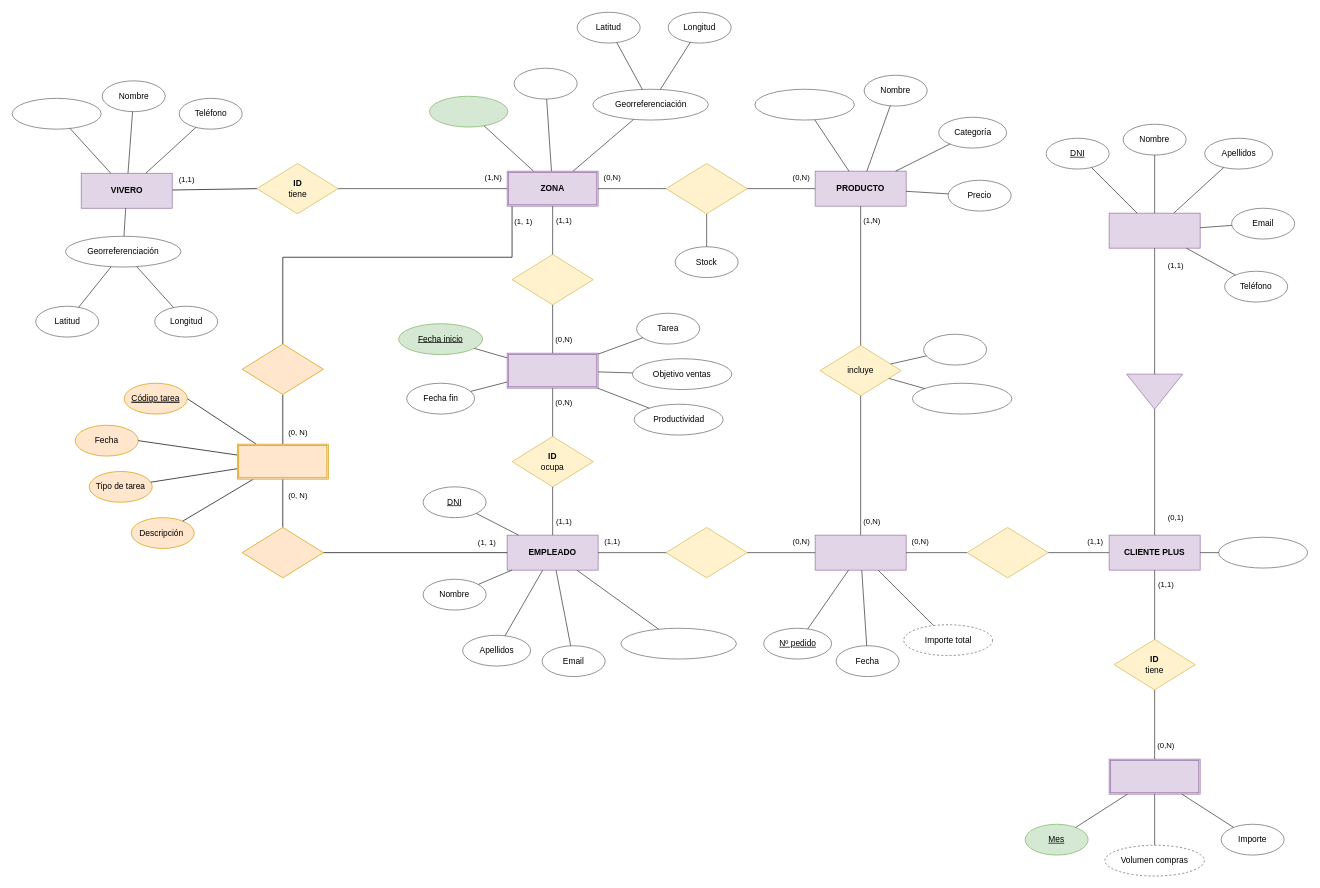
The diagram is 1320 pixels wide and 888 high, and some of its shapes have lost their labels. The centre of each missing label's shape, as x and y in pixels:
"almacena" belongs at (x=706, y=188).
"BONIFICACIÓN" belongs at (x=1154, y=776).
"Cantidad" belongs at (x=955, y=349).
"CLIENTE" belongs at (x=1154, y=230).
"Código producto" belongs at (x=804, y=104).
"Código vivero" belongs at (x=56, y=113).
"Código zona" belongs at (x=468, y=111).
"ejecuta" belongs at (x=282, y=552).
"Fecha contratación" belongs at (x=678, y=643).
"Fecha ingreso" belongs at (x=1263, y=552).
"gestiona" belongs at (x=706, y=552).
"MANTENIMIENTO" belongs at (x=282, y=461).
"PEDIDO" belongs at (x=860, y=552).
"Precio unitario" belongs at (x=962, y=398).
"PUESTO" belongs at (x=552, y=370).
"realiza" belongs at (x=1007, y=552).
"se desarrolla en" belongs at (x=552, y=279).
"se realiza" belongs at (x=282, y=368).
"Tipo" belongs at (x=545, y=83).
